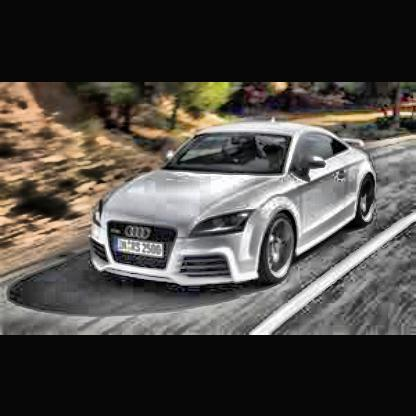Audi TT RS Coupe 2012: (90, 115, 381, 289)
